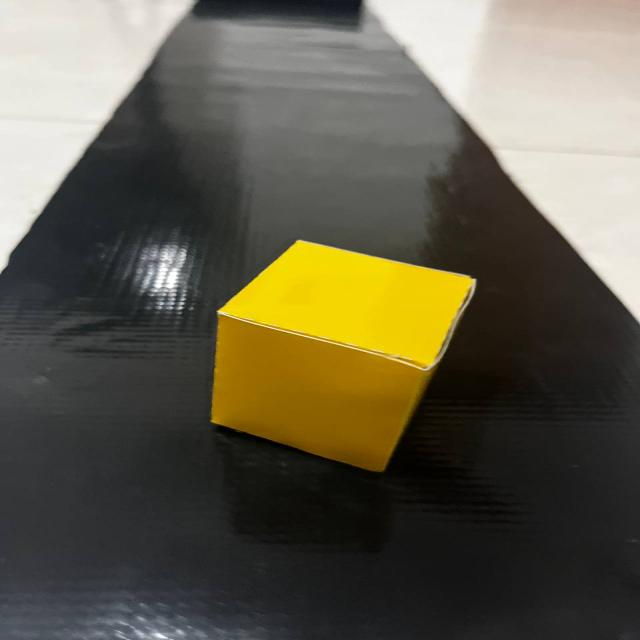Amarillo: (192, 216, 488, 492)
